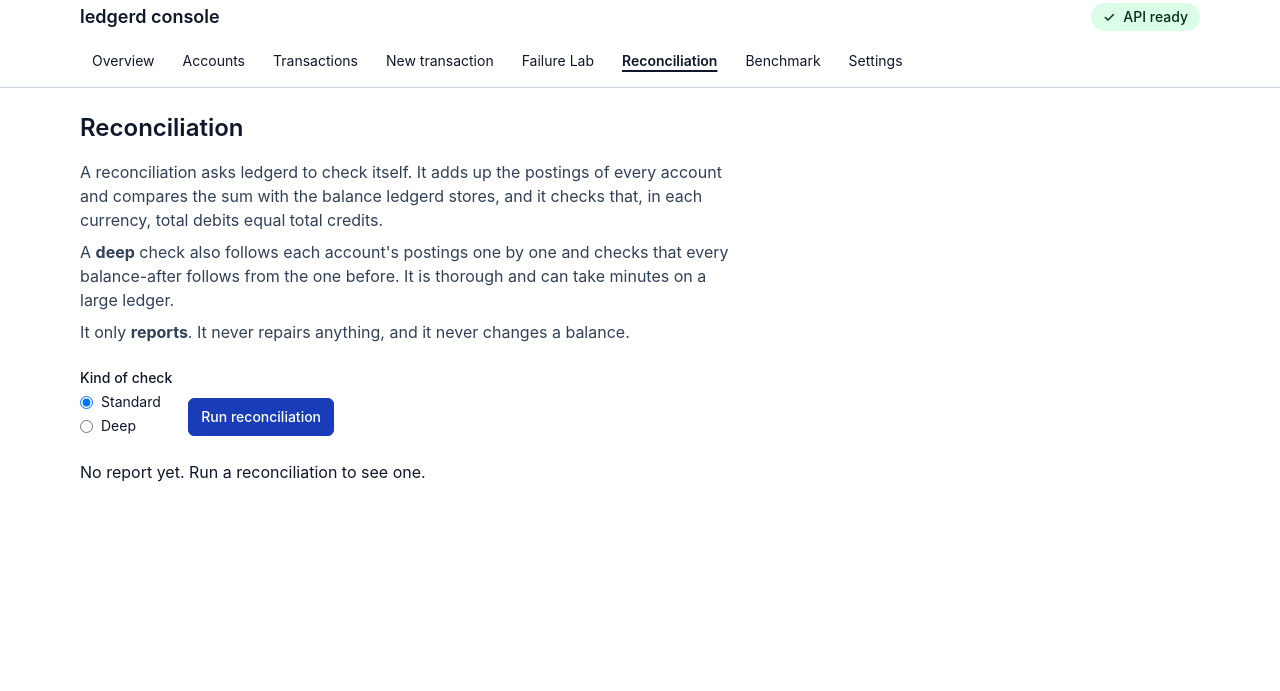
Test: a run that fails (R10.5) › keeps earlier reports in the history, and labels one chosen from there as not current
Expected: the heading "Reconciliation" is shown, [80, 112, 244, 144]
What coordinates should you click on to do the following:
click the button "Run reconciliation"
I would click on:
 (261, 417)
Its box is [188, 398, 334, 436].
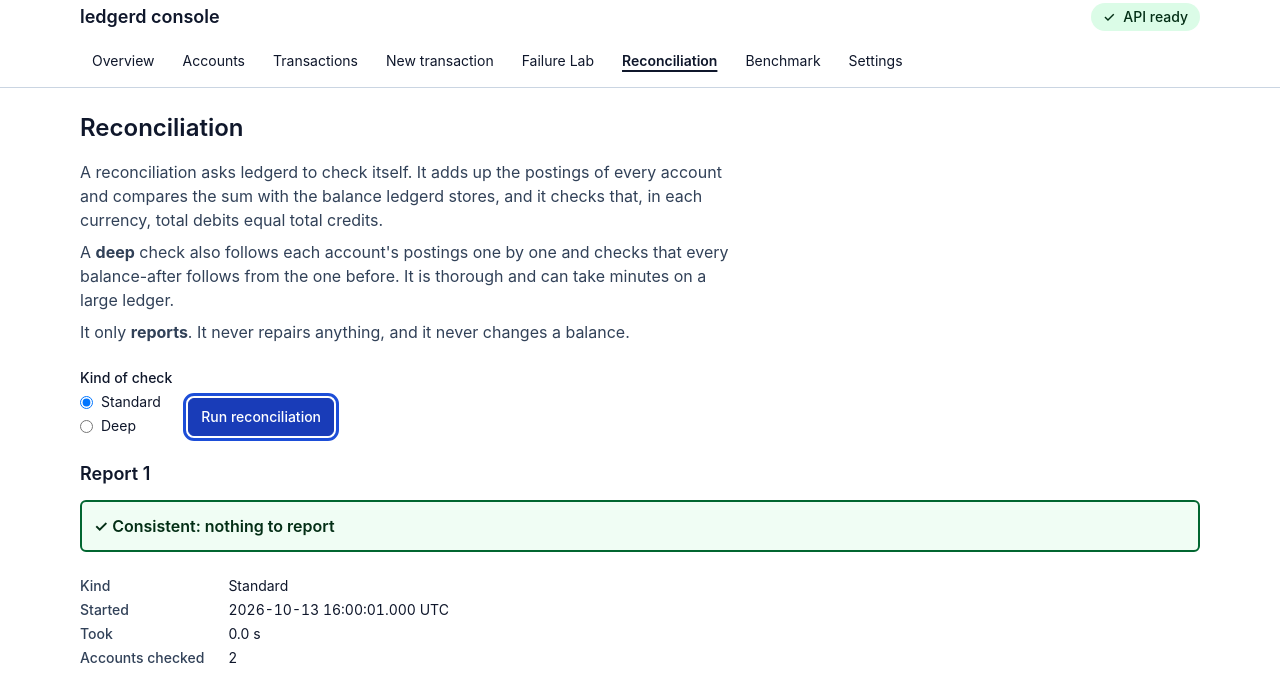
What coordinates should you click on to do the following:
click the button "Run reconciliation"
I would click on:
 (261, 417)
Its box is [188, 398, 334, 436].
(page scrolled)
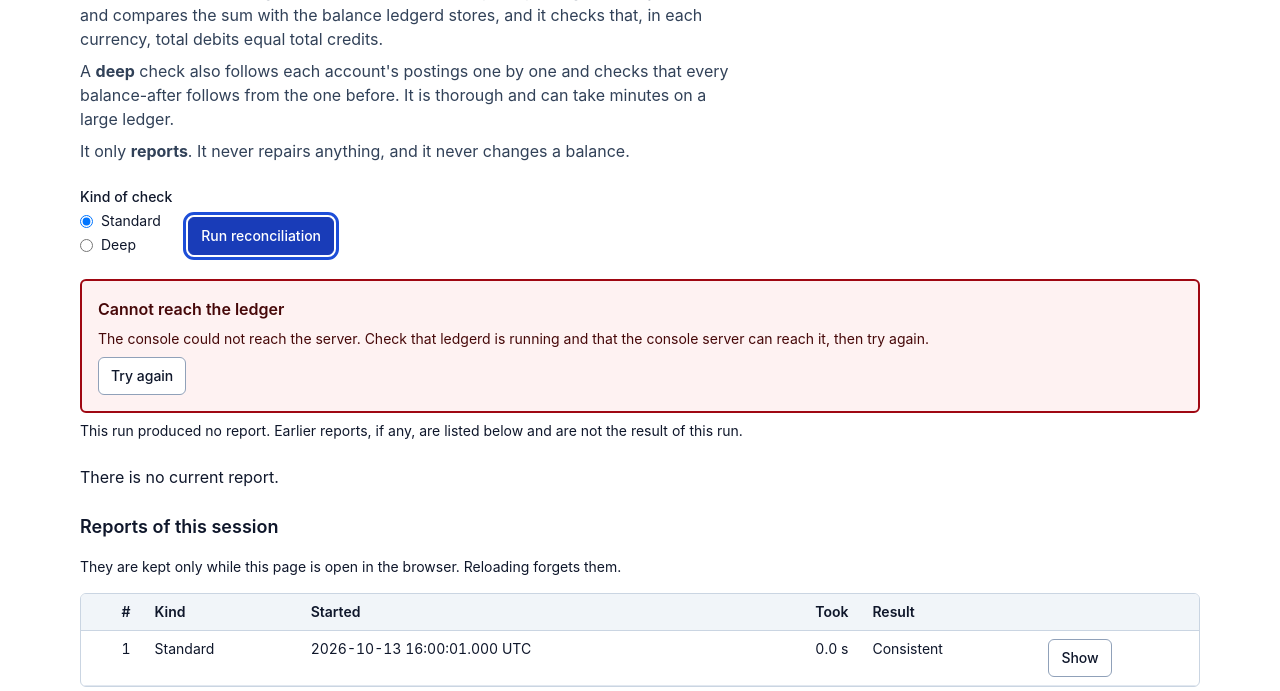
Expected: the text "Cannot reach the ledger" is shown, [98, 299, 284, 319]
What coordinates should you click on to do the following:
click the button named "Show report 1"
I would click on:
 (1080, 658)
Its box is [1048, 639, 1112, 677].
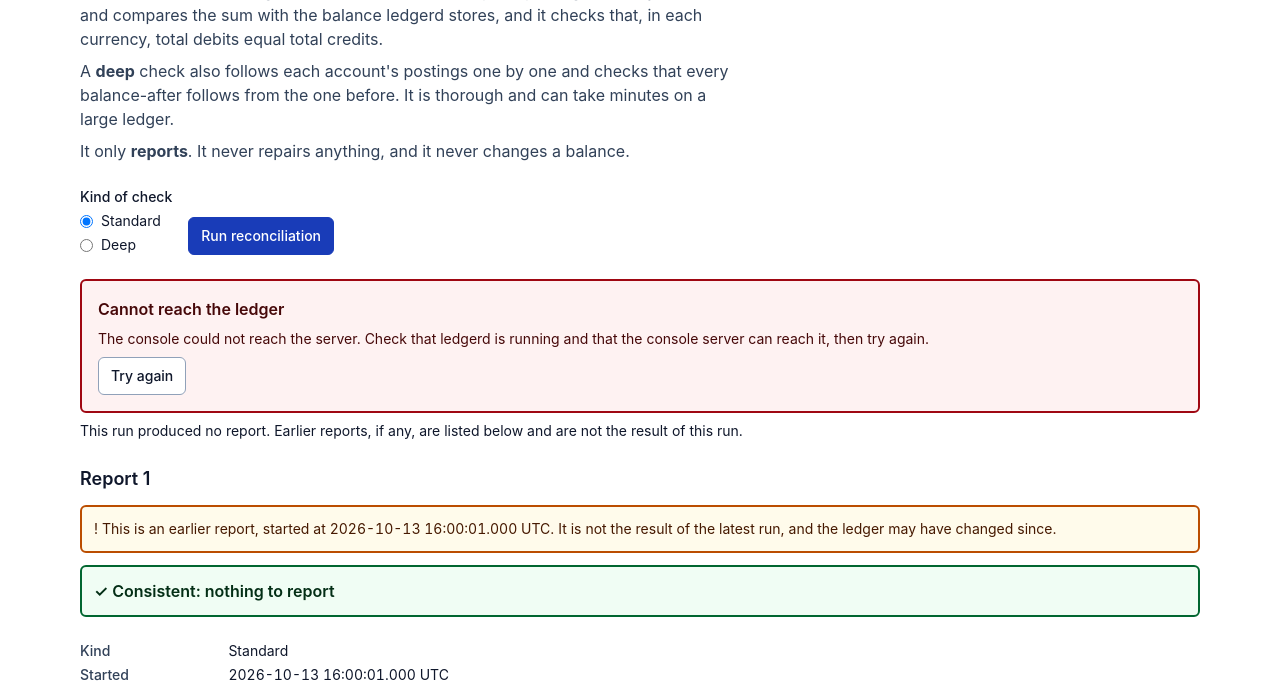
Expected: the element that starts with "This is an earlier report, started at" is shown, [102, 520, 326, 537]
Expected: the element that starts with "This is an earlier report, started at" shows "not the result of the latest run", [550, 520, 1057, 537]
